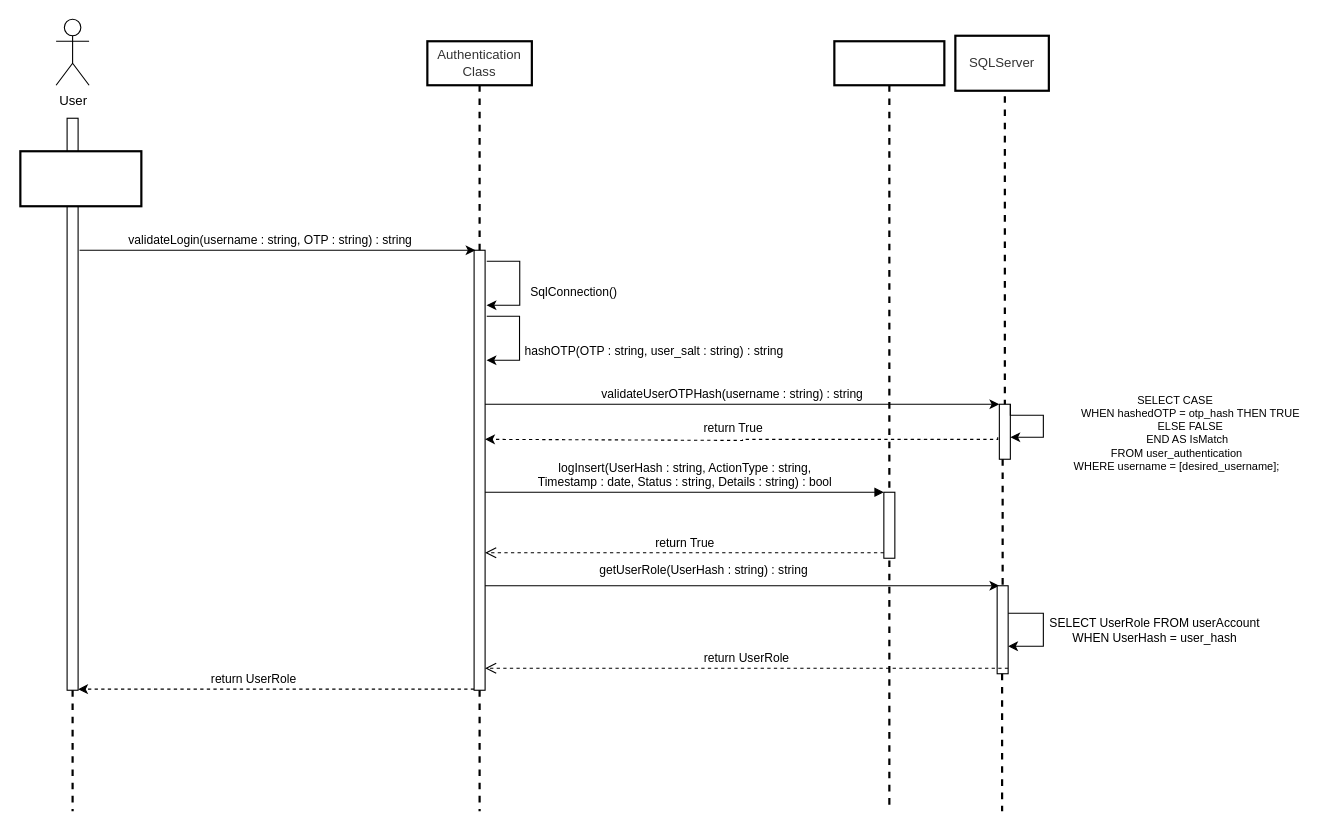
Image size: 1318x832. Some labels were removed from this diagram. The shapes that lost their labels are listed below. From the top down, each one's box as (x1, y1, x2, y2) in pixels, then its label:
(19, 150, 142, 207): User has already received their OTP from their email
(833, 40, 945, 812): LogManager
